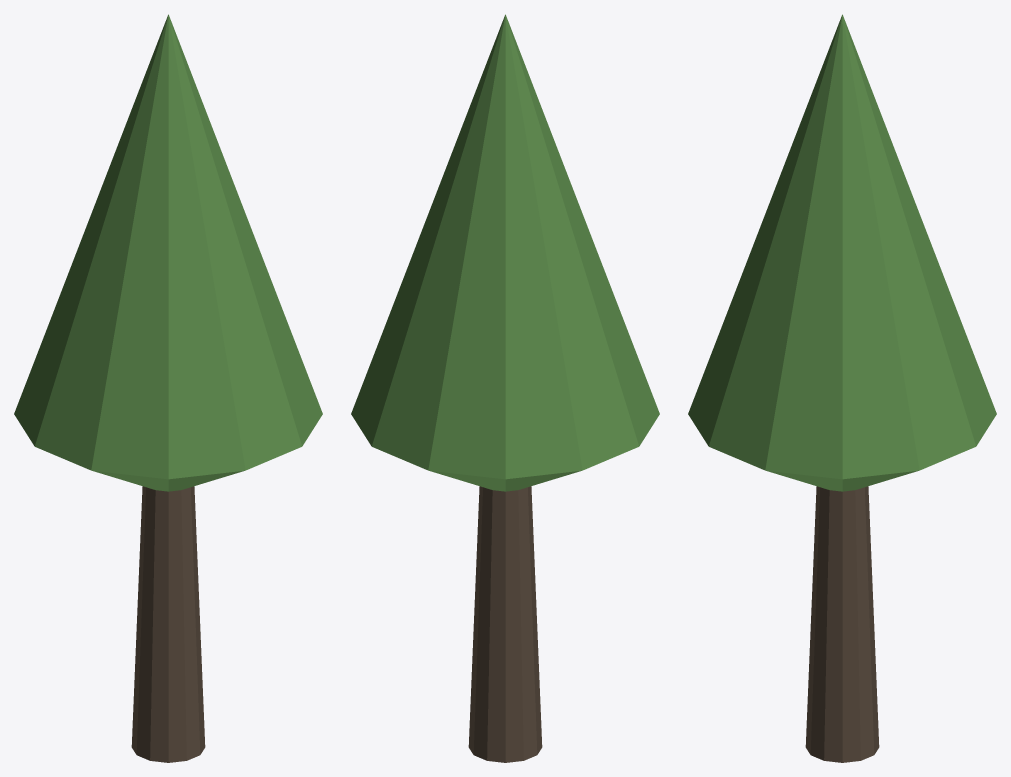
Rendered from tree5.dae.
3 views of the same model, side by side, from view 1: azimuth 30°, elevation 25°; view 2: azimuth 150°, elevation 25°; view 3: azimuth 270°, elevation 25° (orthographic).
Parts seen in each view (by area): view 1: mesh; view 2: mesh; view 3: mesh.
Boxes of the visible parts, <box> form: mesh: <box>14,14,322,762</box>; mesh: <box>351,14,659,762</box>; mesh: <box>688,14,996,762</box>.
Size of the model in its own units: 4.2 by 4.2 by 11.
